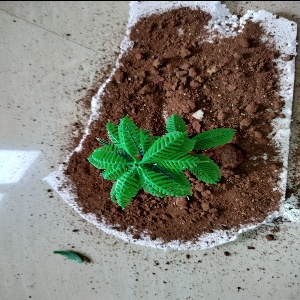plant: (84, 120, 217, 197)
